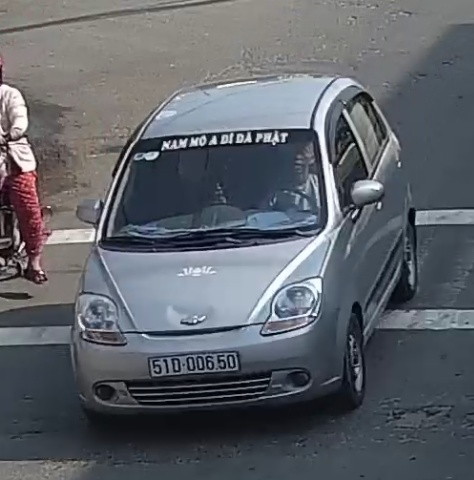vehicle plate: (139, 349, 246, 374)
